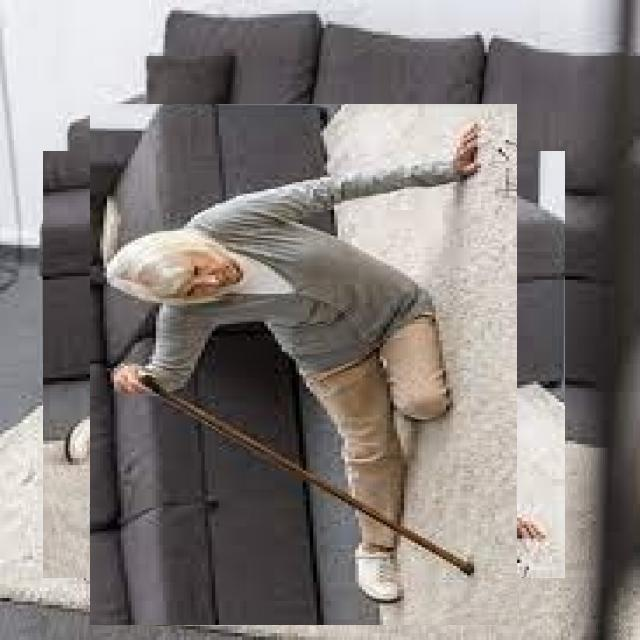Fall: (34, 168, 523, 566)
